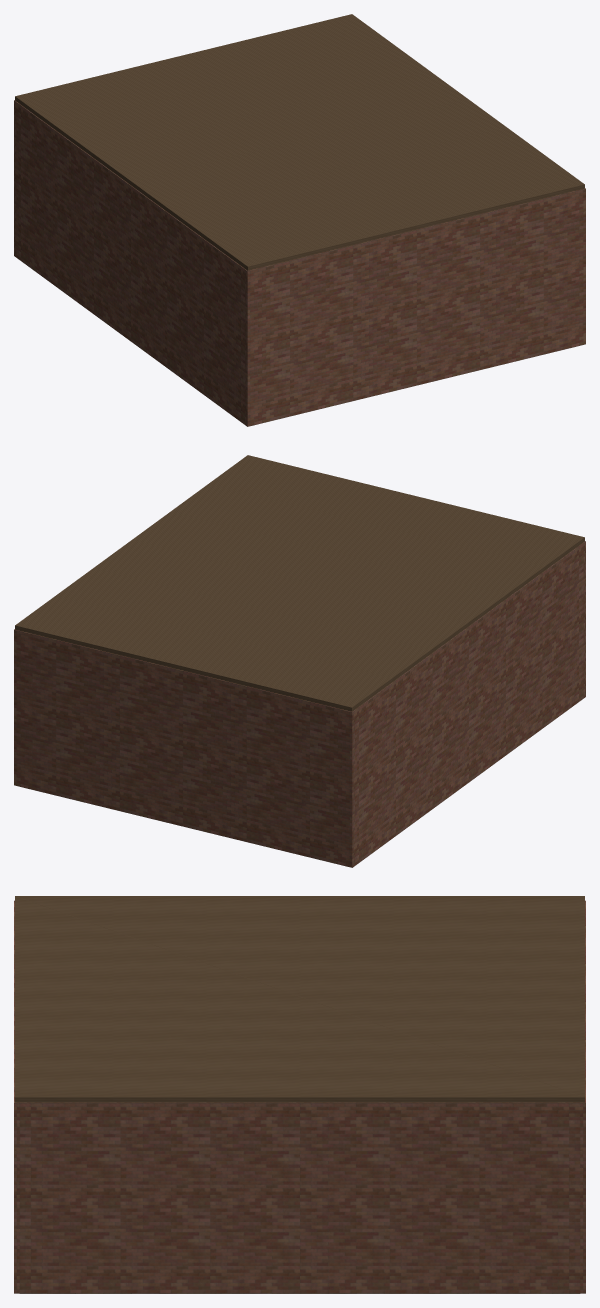
Rendered from brewery-room.glb.
3 renders of one model, top to bottom at view 1: azimuth 30°, elevation 25°; view 2: azimuth 150°, elevation 25°; view 3: azimuth 270°, elevation 25°, orthographic. The views are drawn at different scales.
Parts seen in each view (by area): view 1: Brick, Timber; view 2: Brick, Timber; view 3: Timber, Brick, Paving.
Boxes of the visible parts, <box> form: Brick: <box>14,100,585,426</box>; Timber: <box>15,14,584,270</box>; Brick: <box>14,541,585,867</box>; Timber: <box>15,455,584,711</box>; Timber: <box>15,896,584,1102</box>; Brick: <box>14,900,585,1293</box>; Paving: <box>20,1293,579,1293</box>.
Size of the model in its own units: 10.24 by 4.68 by 12.24.
15 materials, 6 textured.
